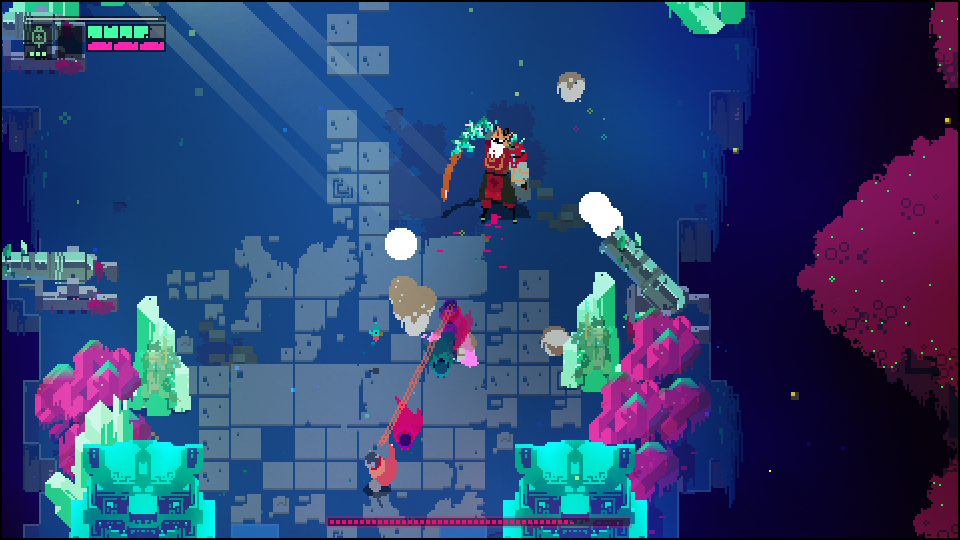hanged_man: (439, 114, 530, 222)
player: (359, 444, 401, 494)
